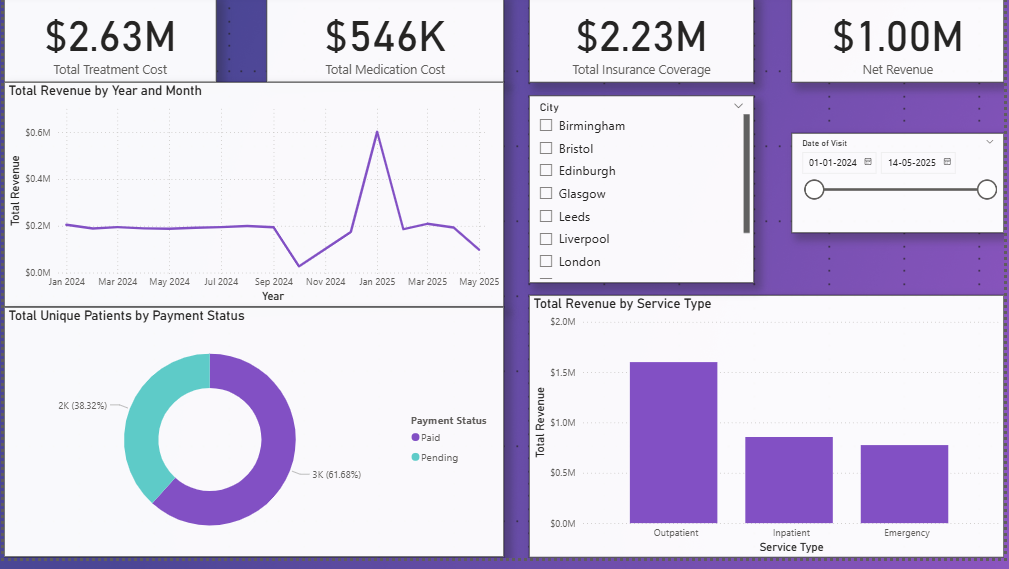

The page's visual inventory and layout, read from the dashboard file:
{"tool":"powerbi","page":{"name":"Executive Financial Overview","canvas":[1280,720],"ordinal":0},"visuals":[{"type":"card","fields":{"Values":["visits.Total Treatment Cost"]},"box":[0,0,272,112],"z":0},{"type":"card","fields":{"Values":["visits.Total Medication Cost"]},"box":[336,0,304,112],"z":1},{"type":"card","fields":{"Values":["visits.Total Insurance Coverage"]},"box":[672,0,288,112],"z":2},{"type":"card","fields":{"Values":["visits.Net Revenue"]},"box":[1008,0,272,112],"z":3},{"type":"lineChart","fields":{"Y":["visits.Total Revenue"],"Category":["visits.Date of Visit.Variation.Date Hierarchy.Year","visits.Date of Visit.Variation.Date Hierarchy.Month"]},"box":[0,112,640,288],"z":4},{"type":"clusteredColumnChart","fields":{"Y":["visits.Total Revenue"],"Category":["visits.Service Type"]},"box":[672,384,608,336],"z":5},{"type":"donutChart","fields":{"Category":["visits.Payment Status"],"Y":["visits.Total Unique Patients"]},"box":[0,400,640,320],"z":6},{"type":"slicer","fields":{"Values":["cities.City"]},"box":[672,128,288,240],"z":7},{"type":"slicer","fields":{"Values":["visits.Date of Visit"]},"box":[1008,176,272,128],"z":8}]}

Visuals, with their boxes in screenshot pixels (x1, y1, x2, y2), scaled from the page's 1280x720 canvas onto the 1009x569 screenshot:
card - visits.Total Treatment Cost: bbox=[0, 0, 214, 89]
card - visits.Total Medication Cost: bbox=[265, 0, 504, 89]
card - visits.Total Insurance Coverage: bbox=[530, 0, 757, 89]
card - visits.Net Revenue: bbox=[795, 0, 1008, 89]
lineChart - visits.Total Revenue x visits.Date of Visit.Variation.Date Hierarchy.Year: bbox=[0, 89, 504, 316]
clusteredColumnChart - visits.Total Revenue x visits.Service Type: bbox=[530, 303, 1008, 568]
donutChart - visits.Payment Status x visits.Total Unique Patients: bbox=[0, 316, 504, 568]
slicer - cities.City: bbox=[530, 101, 757, 291]
slicer - visits.Date of Visit: bbox=[795, 139, 1008, 240]
